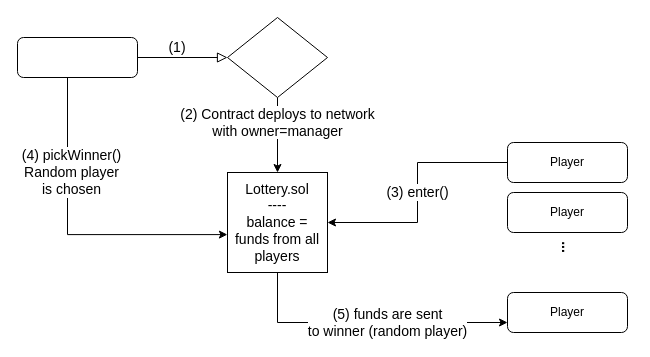
The diagram is 650 pixels wide and 357 high, and some of its shapes have lost their labels. The centre of each missing label's shape, as x and y in pixels:
Deploy Contract: the point at 277,57
Manager: the point at 77,57
